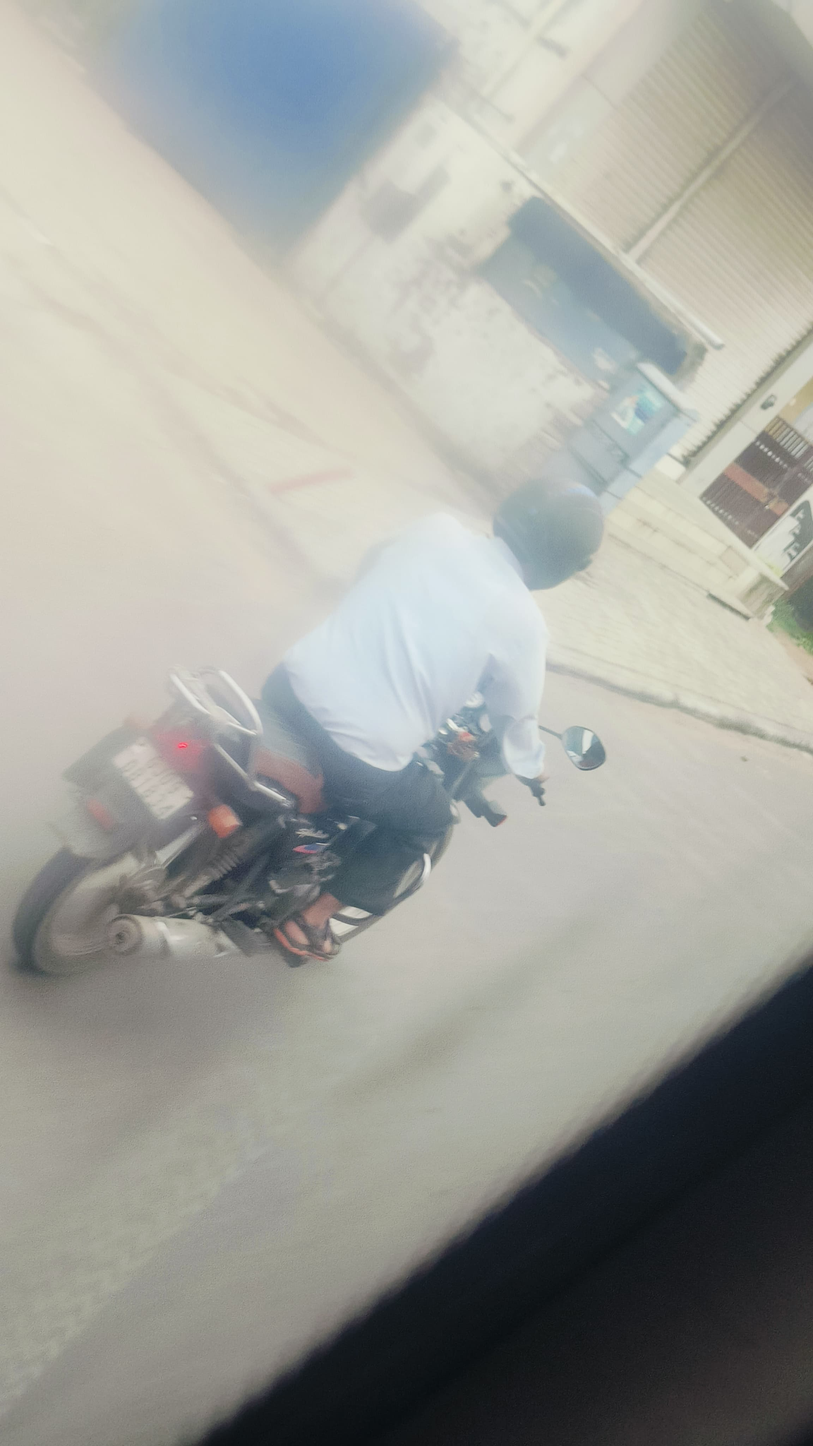BikeWithRider: (0, 336, 653, 1085)
Helmet: (483, 442, 615, 605)
